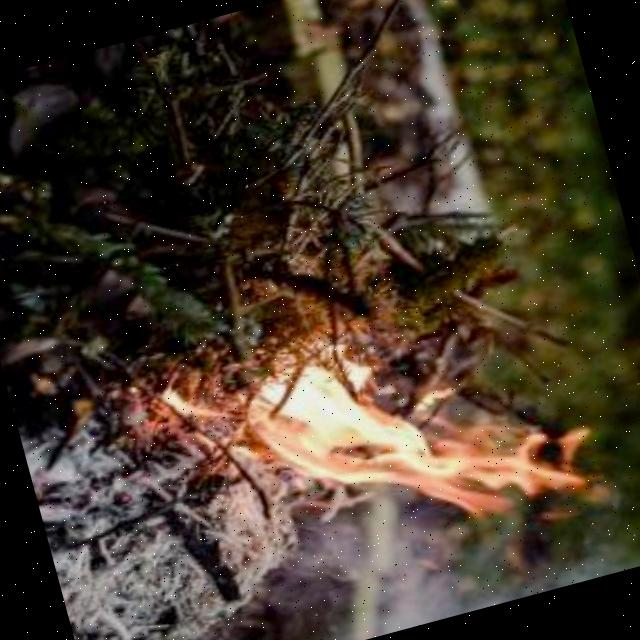fire: (102, 222, 640, 627)
